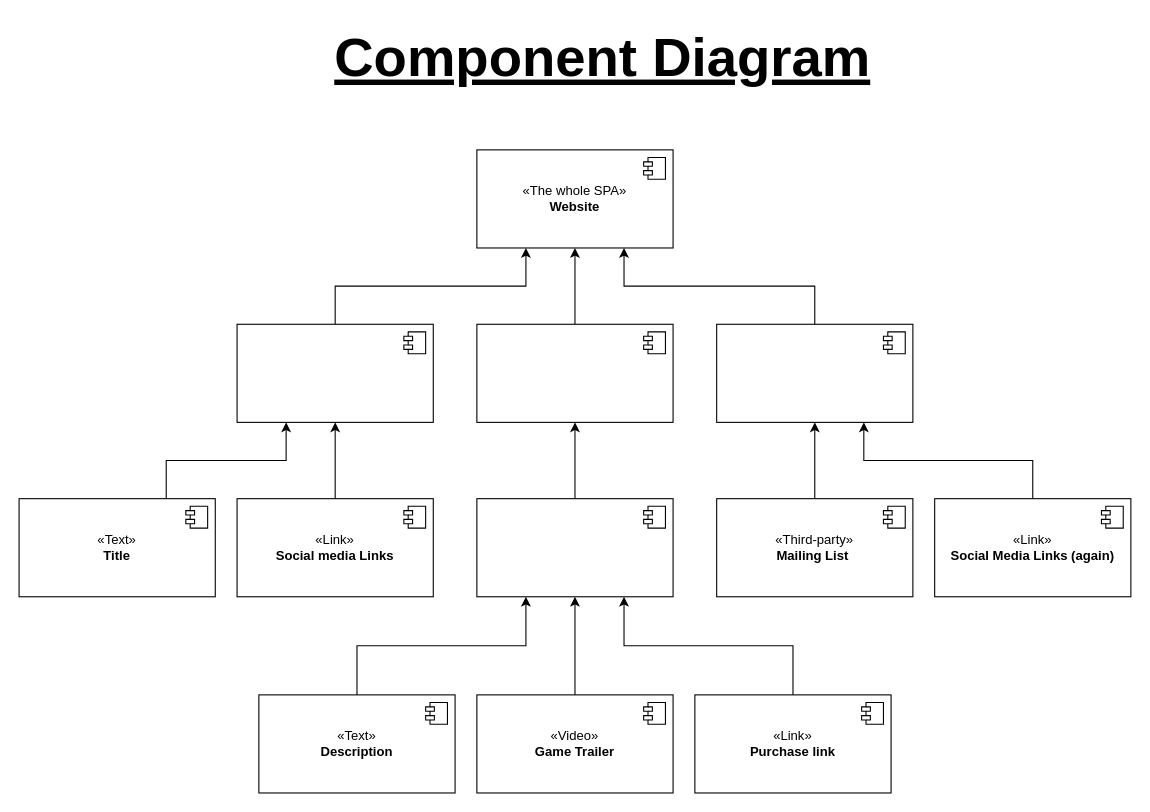
Some shapes in this 1150 by 812 pixel diagram are drawn without their labels. Each missing label, with the box of its shape:
«Bottom Section» Footer: (716, 323, 913, 422)
«Middle section» Games Section: (476, 323, 673, 422)
«Shows when Game clicked» Game Details: (476, 498, 673, 597)
«Top Section» Header: (236, 323, 433, 422)
